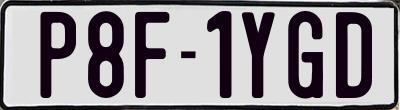1: (205, 9, 234, 100)
8: (86, 9, 125, 97)
D: (336, 9, 373, 95)
F: (133, 12, 171, 99)
G: (287, 11, 322, 105)
P: (37, 9, 73, 97)
Y: (242, 11, 276, 98)
